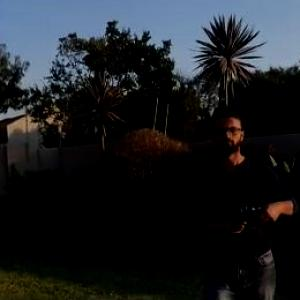follow: (182, 99, 300, 299)
